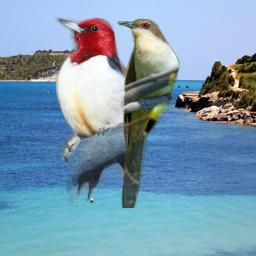Cuckoo: (117, 18, 181, 208)
Woodpecker: (51, 17, 146, 207)
